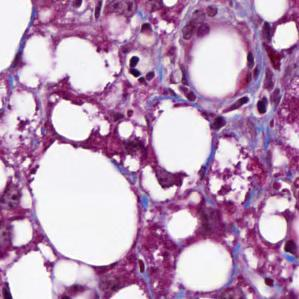inflammation: (121, 48, 160, 90), (236, 85, 274, 119)
